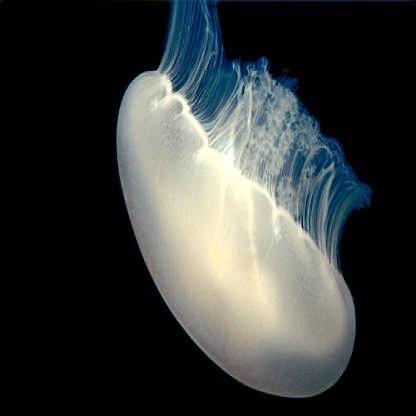Speckle: (115, 16, 358, 399)
